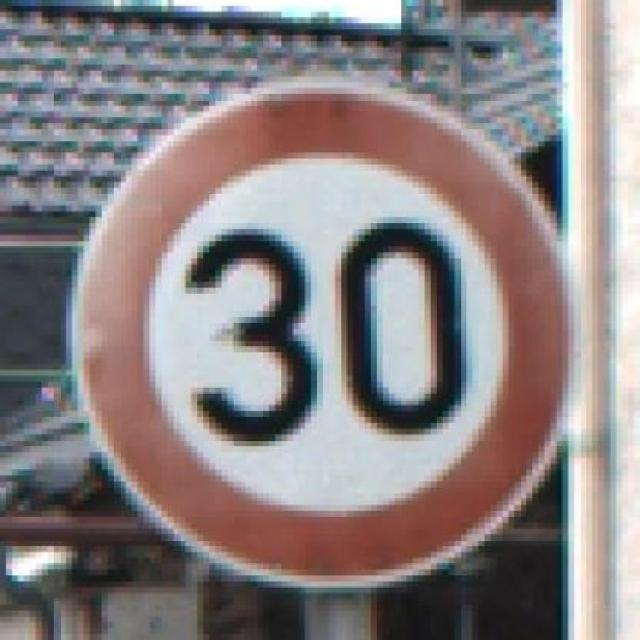Speed Limit 30 KMPh: (54, 41, 598, 599)
